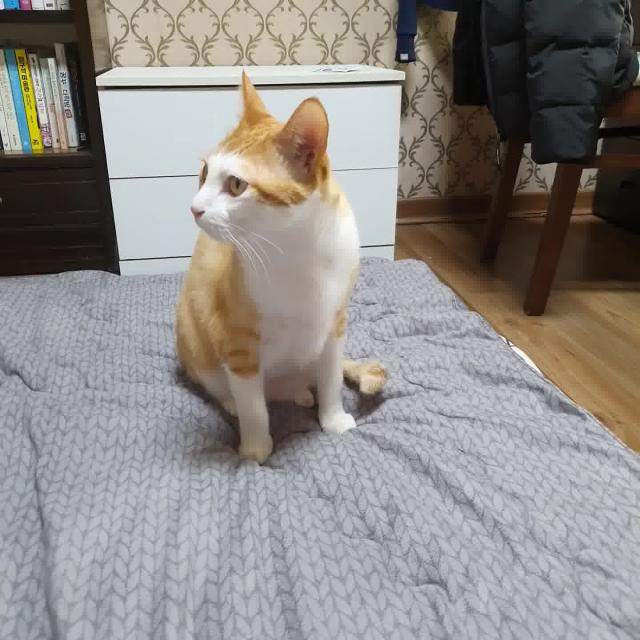cat: (142, 59, 392, 495)
